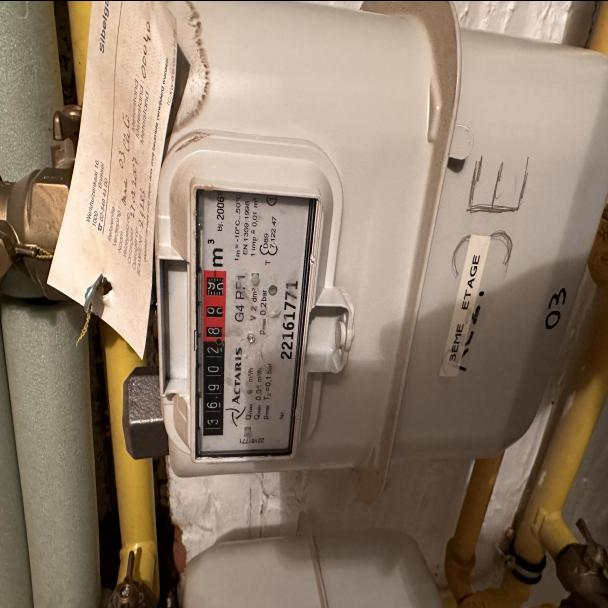0: (201, 356, 225, 376)
2: (203, 338, 224, 358)
3: (199, 412, 225, 432)
6: (200, 390, 224, 413)
8: (203, 298, 227, 320), (203, 318, 226, 340)
9: (203, 266, 227, 298), (202, 373, 224, 393)
cm: (201, 264, 230, 340)
counter: (198, 338, 228, 440)
